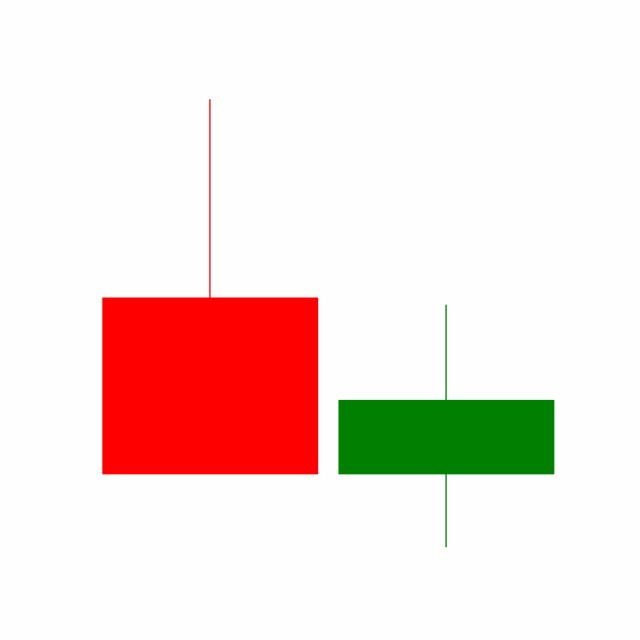Spinning Top: (327, 302, 565, 550)
